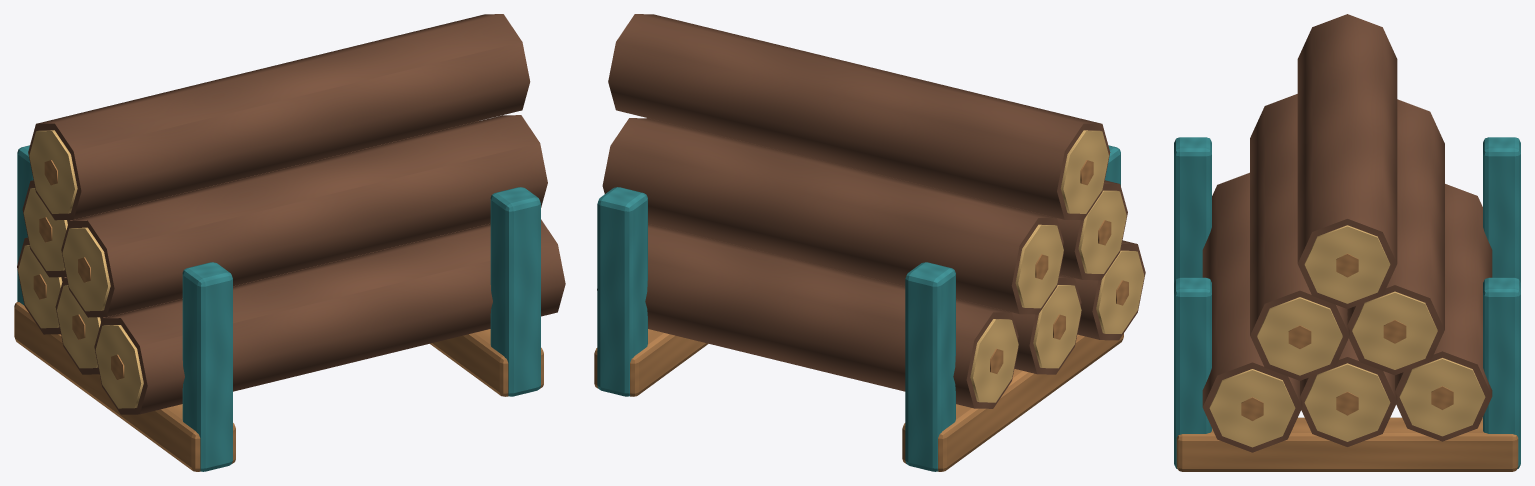
The model's file is camp-log-pile.glb.
3 renders of one model, left to right at view 1: azimuth 30°, elevation 25°; view 2: azimuth 150°, elevation 25°; view 3: azimuth 270°, elevation 25°, orthographic. The views are drawn at different scales.
Visible parts, largest first — view 1: camp-log-pile-mesh; view 2: camp-log-pile-mesh; view 3: camp-log-pile-mesh.
Part boxes in pixels (x1=…): camp-log-pile-mesh: x1=14, y1=14, x2=565, y2=471; camp-log-pile-mesh: x1=594, y1=14, x2=1145, y2=471; camp-log-pile-mesh: x1=1174, y1=14, x2=1520, y2=471.
Bounding box in the file's own units: 2.08 × 1.29 × 1.46.
Materials: 1 (1 with a texture image).
